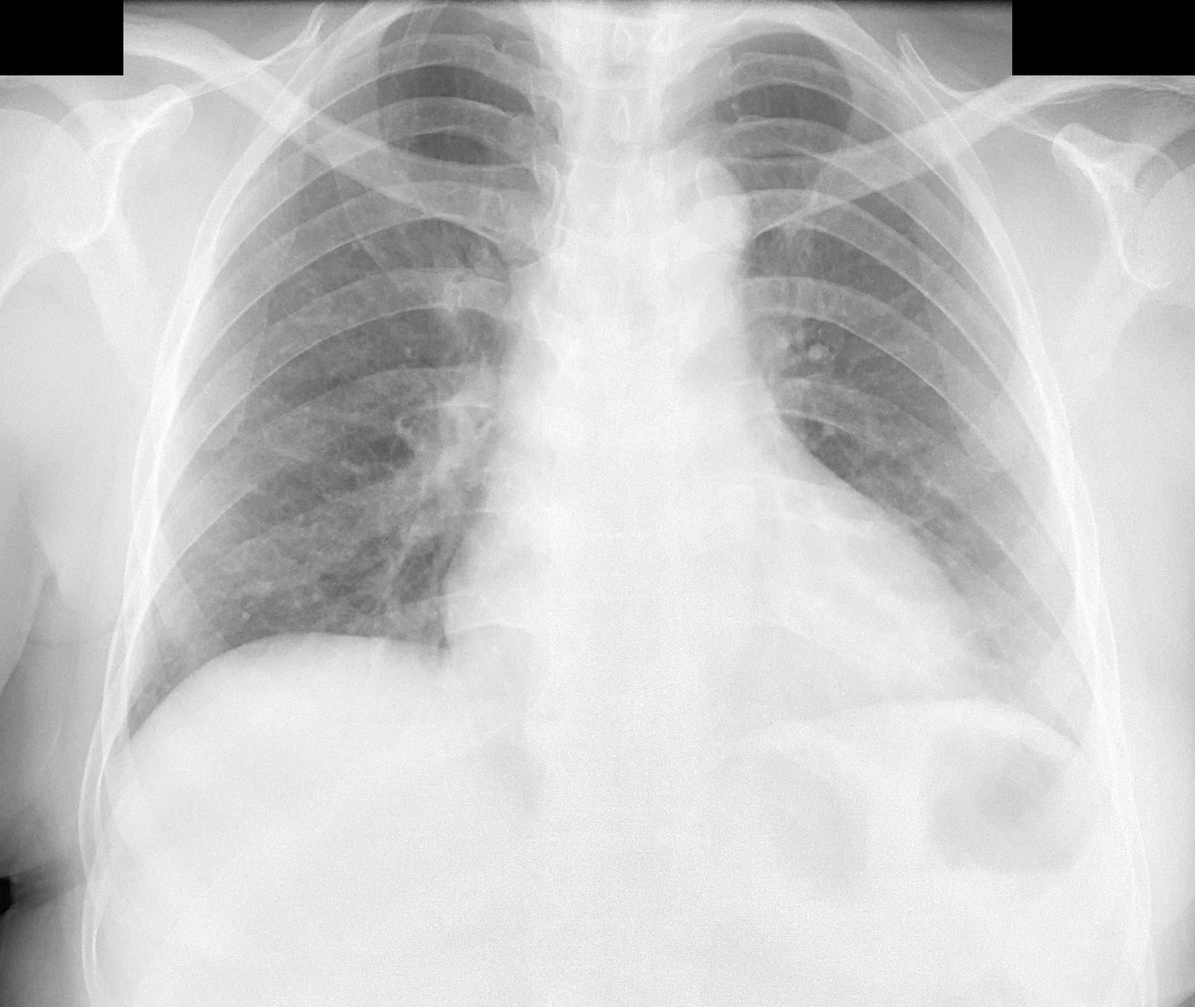Cardiomegaly: (437, 557, 988, 699)
